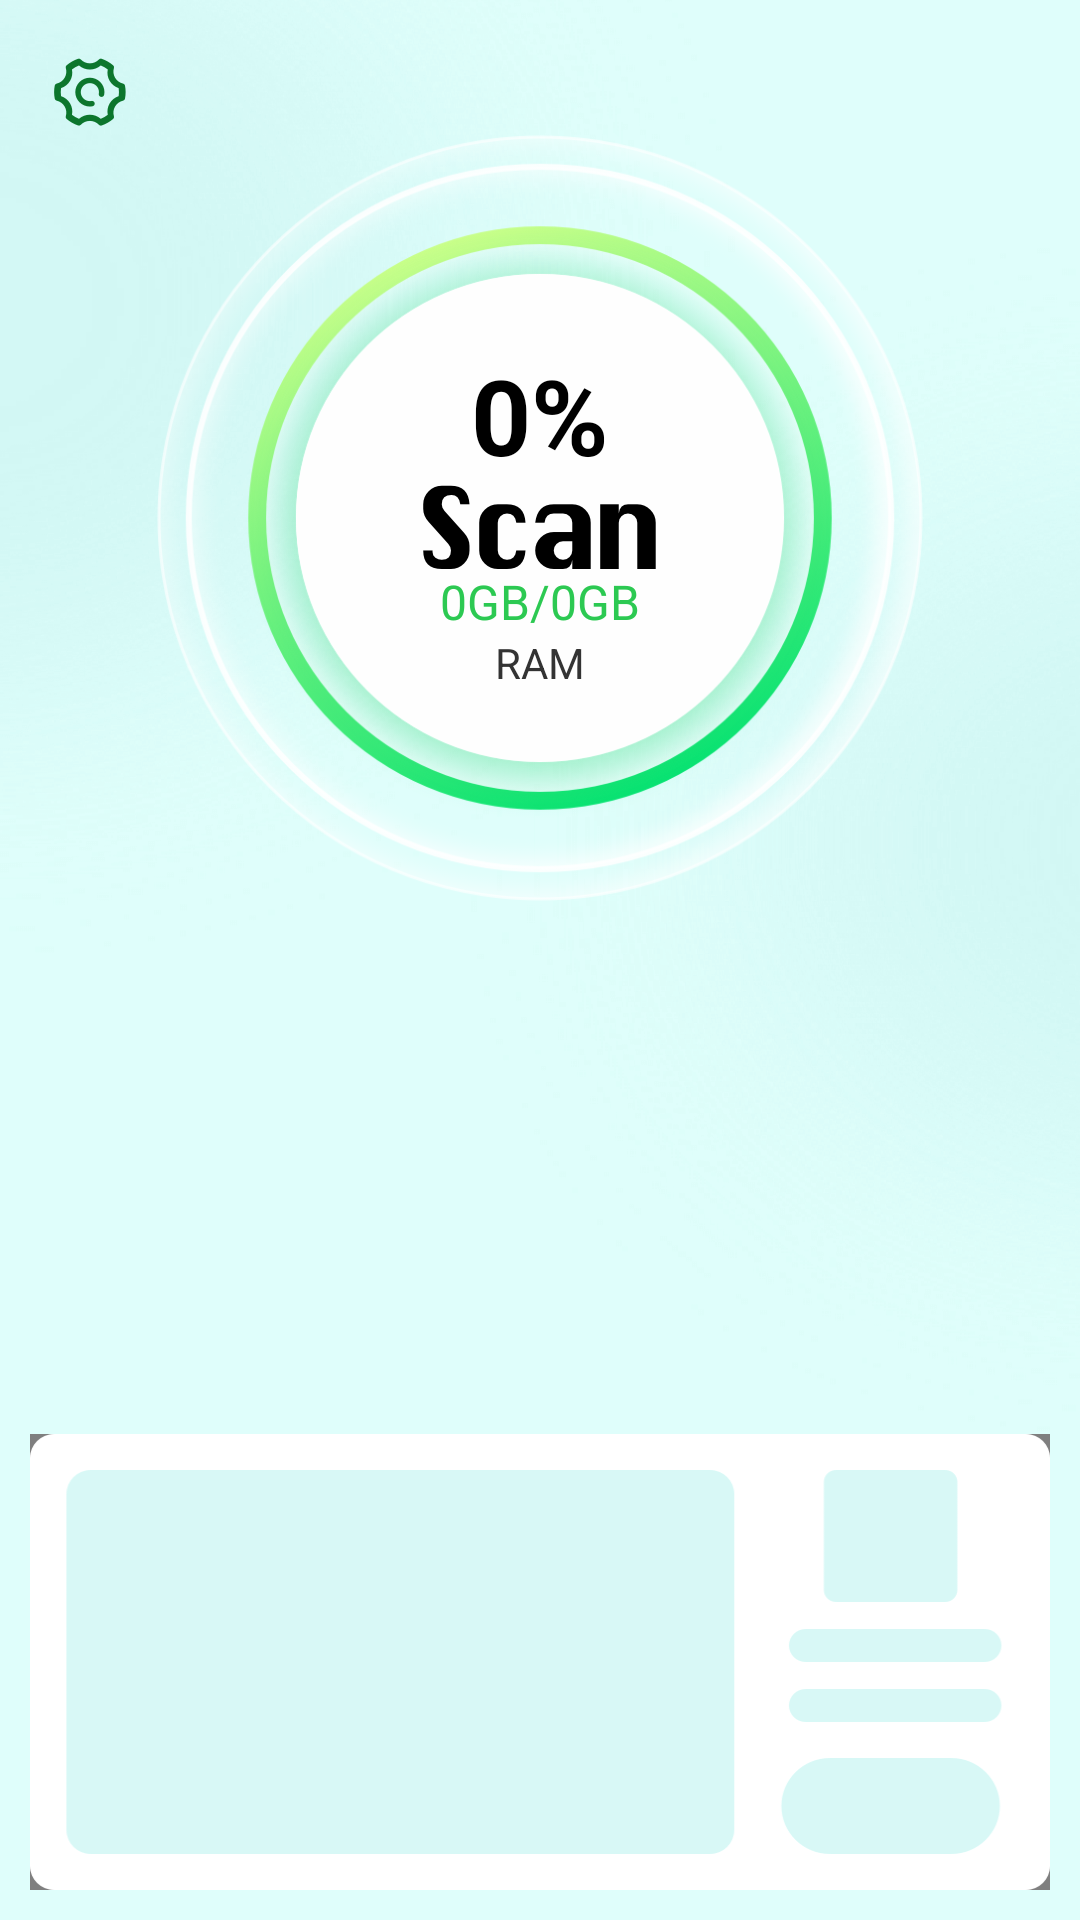

Screen size 1080 x 1920. Icon name, then its box in pixels as (x1, y1, x2, y2):
set: (54, 58, 126, 126)
